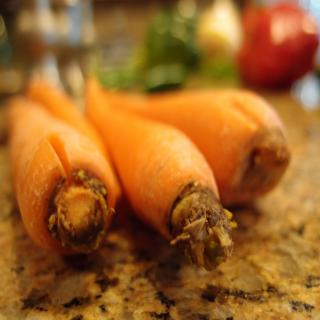Carrot: (84, 73, 237, 271), (8, 91, 114, 259)
